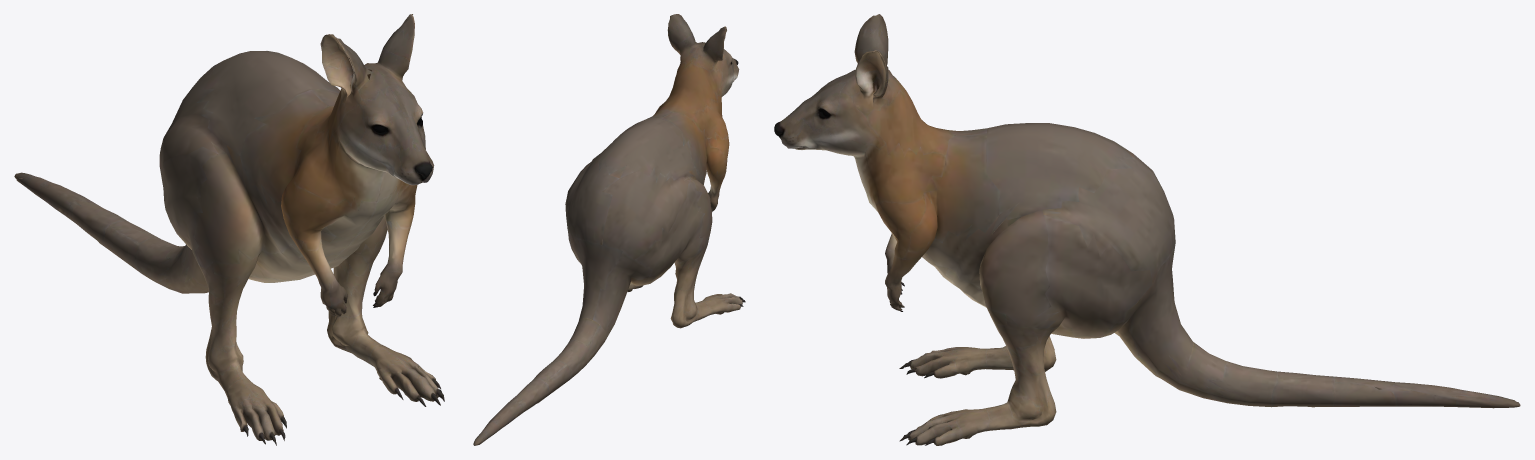
File: wallaby-fujio.glb
3 views of the same model, side by side, from view 1: azimuth 30°, elevation 25°; view 2: azimuth 150°, elevation 25°; view 3: azimuth 270°, elevation 25° (orthographic). The views are drawn at different scales.
Visible parts, largest first — view 1: geometry_0; view 2: geometry_0; view 3: geometry_0.
Boxes of the visible parts, x1=… form: geometry_0: x1=14, y1=14, x2=444, y2=445; geometry_0: x1=473, y1=14, x2=745, y2=445; geometry_0: x1=774, y1=14, x2=1520, y2=445.
Bounding box in the file's own units: 0.2612 × 0.5264 × 0.9497.
1 material, 1 textured.
